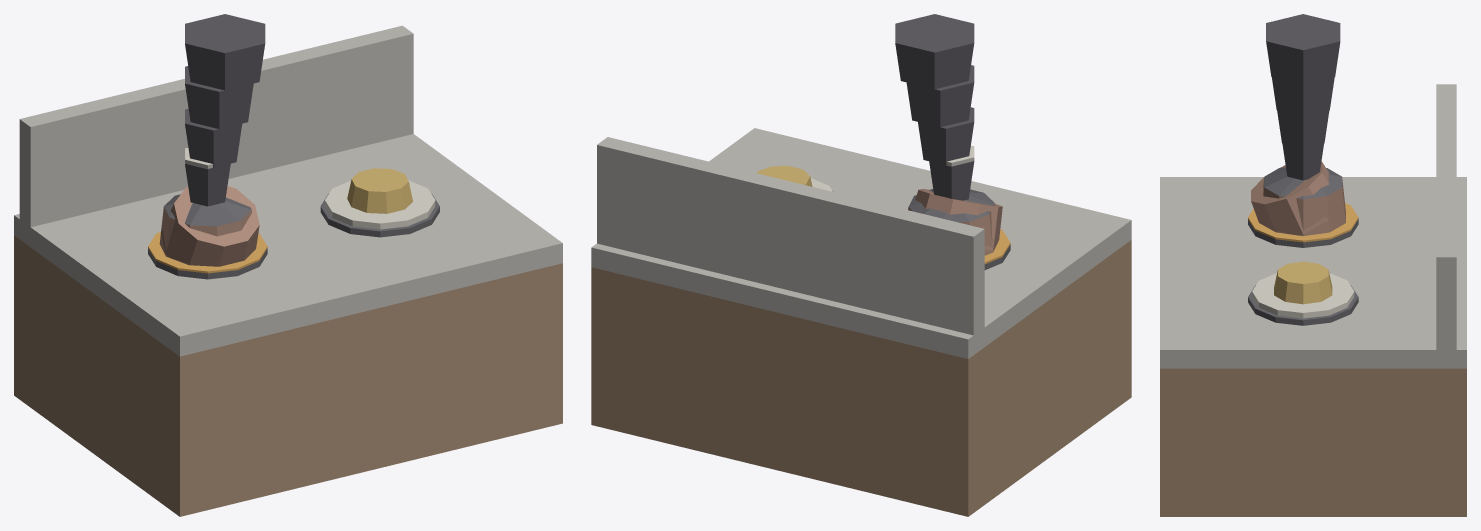
File: station_sample.glb
3 renders of one model, left to right at view 1: azimuth 30°, elevation 25°; view 2: azimuth 150°, elevation 25°; view 3: azimuth 270°, elevation 25°, orthographic. The views are drawn at different scales.
Parts seen in each view (by area): view 1: base_body, base_top, base_back, state_fault_smoke_4, state_fault_pot, state_done_plate, state_fault_smoke_3, state_done_soup, state_fault_smoke_2, state_fault_smoke_1, state_idle_lid, state_busy_ring_glow (+3 smaller); view 2: base_body, base_back, base_top, state_fault_smoke_4, state_fault_smoke_3, state_fault_smoke_2, state_fault_pot, state_fault_smoke_1, state_idle_lid, state_done_soup; view 3: base_body, base_top, base_back, state_fault_smoke_4, state_fault_pot, state_done_plate, state_done_soup, state_fault_smoke_3, state_busy_pot, state_fault_smoke_2, state_fault_smoke_1, state_idle_lid (+3 smaller).
Part boxes in pixels (x1,y1,x2,y2): base_body: [14, 235, 562, 516]; base_top: [14, 134, 562, 356]; base_back: [19, 25, 413, 227]; state_fault_smoke_4: [185, 14, 265, 90]; state_fault_pot: [160, 186, 259, 266]; state_done_plate: [325, 180, 435, 229]; state_fault_smoke_3: [185, 66, 253, 129]; state_done_soup: [347, 168, 412, 213]; state_fault_smoke_2: [185, 108, 242, 167]; state_fault_smoke_1: [185, 161, 230, 206]; state_idle_lid: [164, 194, 251, 226]; state_busy_ring_glow: [148, 231, 267, 273]; base_body: [591, 240, 1131, 516]; base_back: [597, 137, 984, 335]; base_top: [591, 128, 1131, 358]; state_fault_smoke_4: [895, 14, 974, 89]; state_fault_smoke_3: [906, 65, 974, 127]; state_fault_smoke_2: [918, 107, 974, 165]; state_fault_pot: [915, 189, 1002, 250]; state_fault_smoke_1: [929, 158, 974, 200]; state_idle_lid: [908, 189, 994, 222]; state_done_soup: [757, 166, 812, 186]; base_body: [1160, 368, 1466, 516]; base_top: [1160, 177, 1466, 368]; base_back: [1436, 84, 1456, 349]; state_fault_smoke_4: [1266, 14, 1340, 84]; state_fault_pot: [1251, 161, 1329, 235]; state_done_plate: [1252, 273, 1354, 318]; state_done_soup: [1274, 261, 1332, 304]; state_fault_smoke_3: [1271, 77, 1334, 116]; state_busy_pot: [1263, 178, 1345, 236]; state_fault_smoke_2: [1277, 110, 1329, 148]; state_fault_smoke_1: [1282, 143, 1323, 180]; state_idle_lid: [1264, 167, 1342, 199].
Bounding box in the file's own units: 2 × 1.98 × 1.5.
